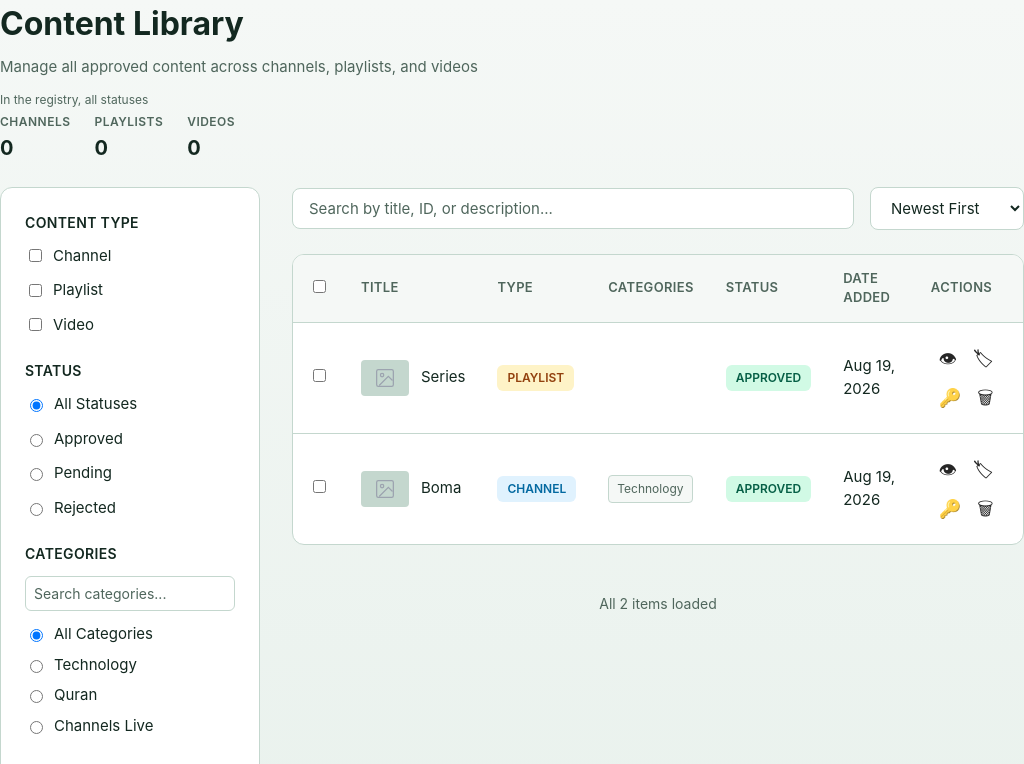
Test case: ContentLibraryView — the live category and mixed selections › disables LIVE when a playlist is among a mixed selection (F-M4)
The image size is (1024, 764).
Click the checkbox next to "Series": point(320, 376) x1=313 y1=369 x2=326 y2=382
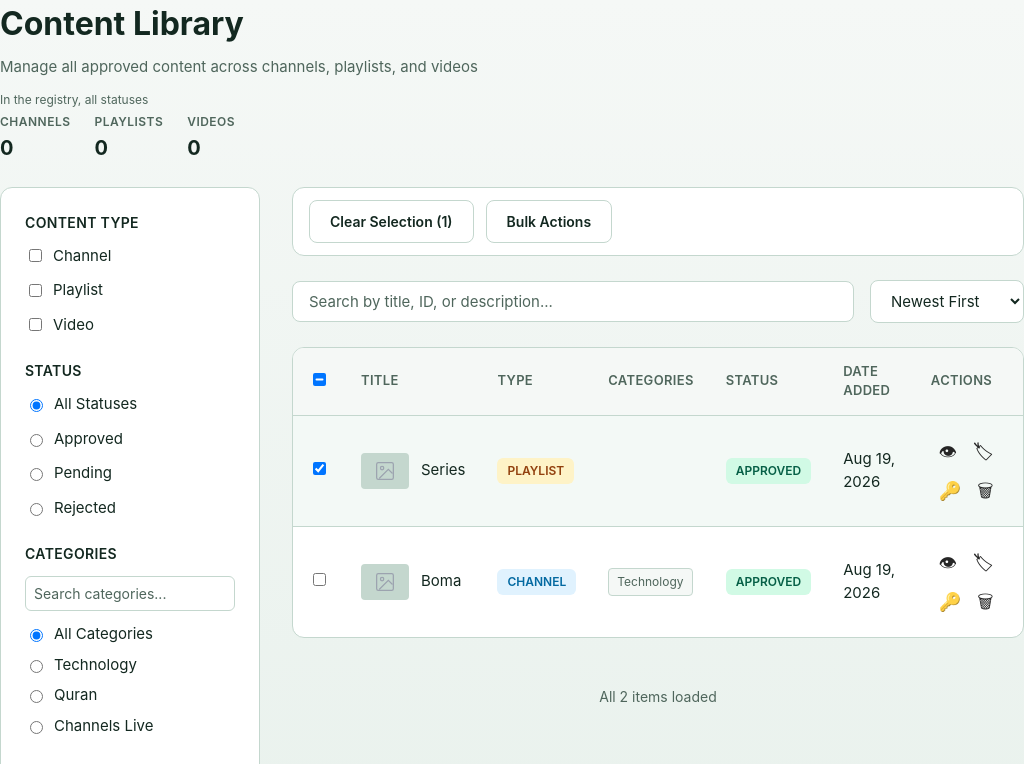
Click the checkbox next to "Boma": point(320, 580) x1=313 y1=573 x2=326 y2=586
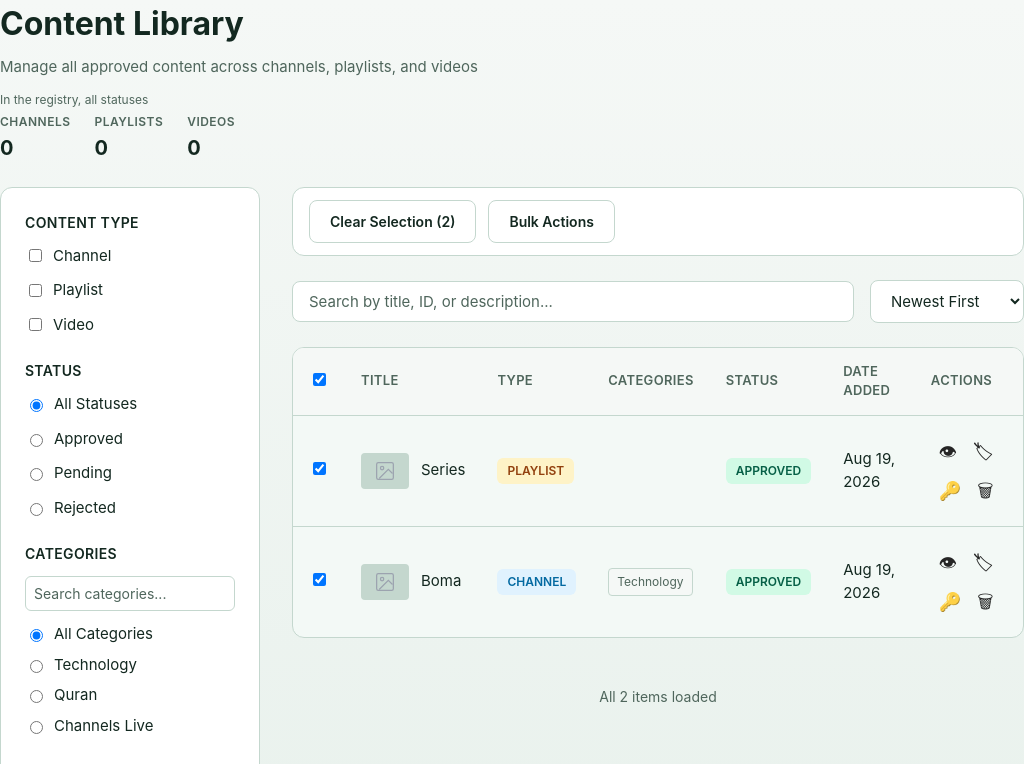
Click the button "Bulk Actions": point(552, 221) x1=488 y1=200 x2=615 y2=242
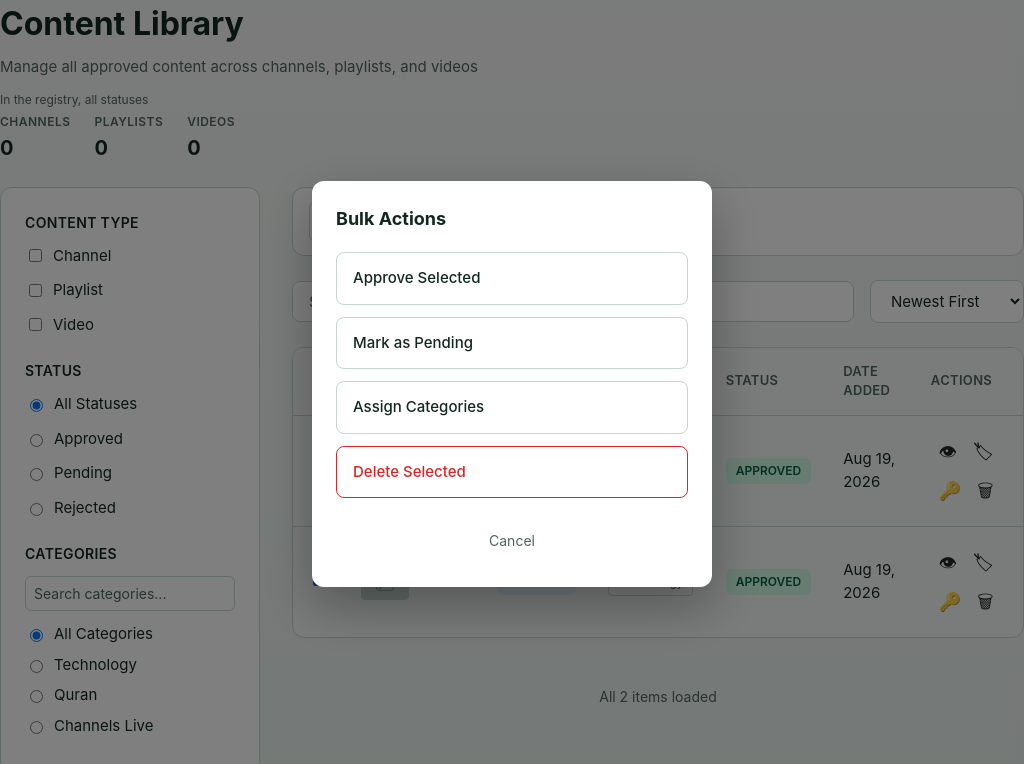
Click the button "Assign Categories": point(419, 406) x1=336 y1=381 x2=688 y2=434
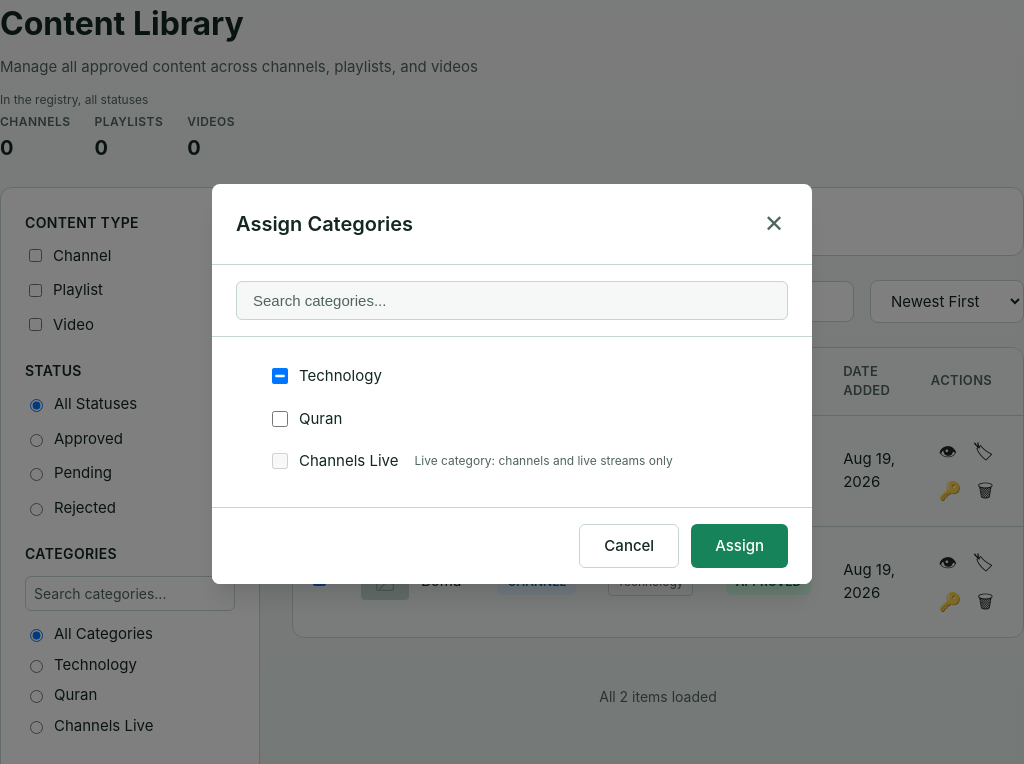
Now the text "Technology" is shown, box x1=299 y1=365 x2=382 y2=388
Now the checkbox labelled "Channels Live Live category: channels and live streams only" is disabled, box x1=272 y1=453 x2=288 y2=469
